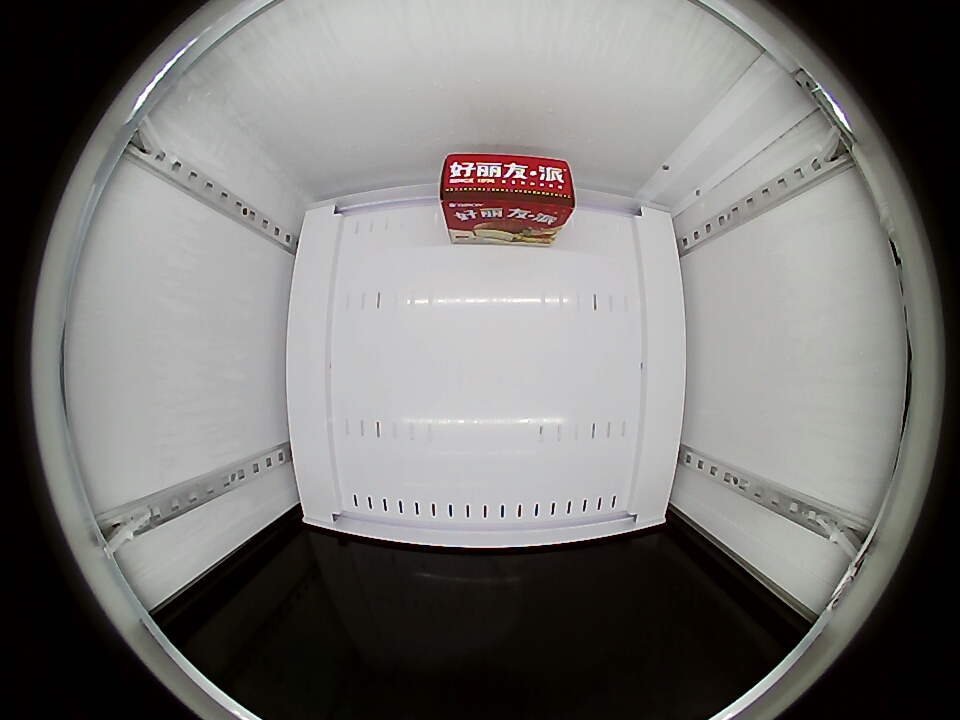haoliyou: (439, 152, 577, 237)
